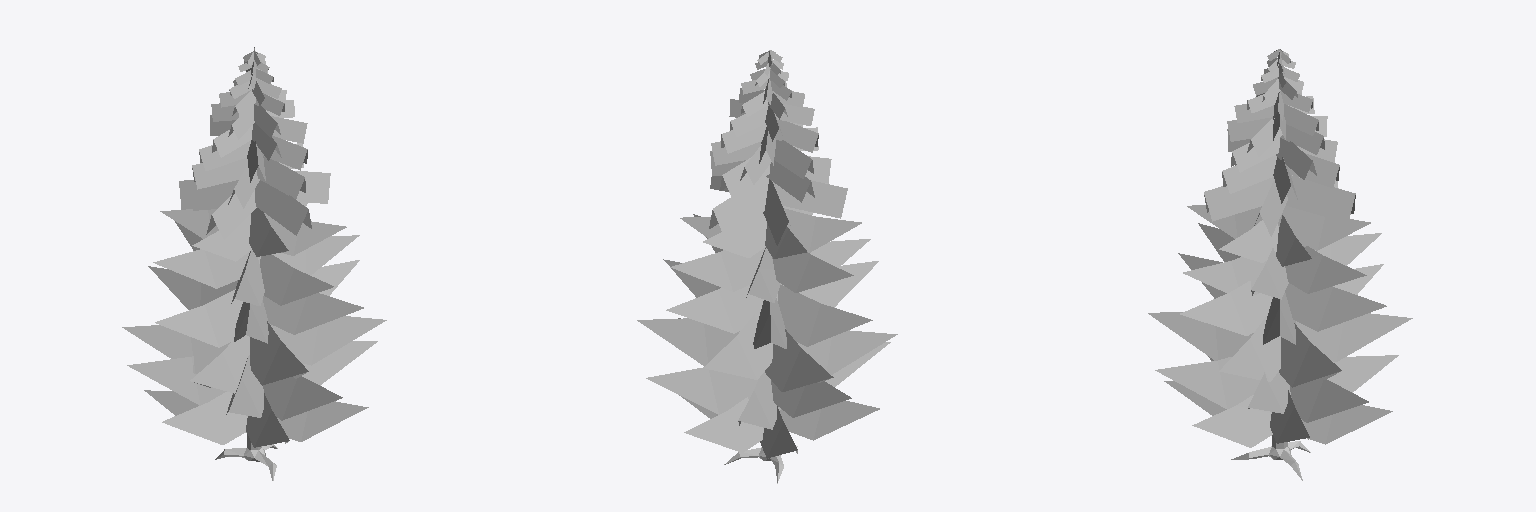
The model's file is tree4.obj.
The picture shows the model from 3 angles: view 1: azimuth 30°, elevation 25°; view 2: azimuth 150°, elevation 25°; view 3: azimuth 270°, elevation 25°; orthographic projection.
Visible parts, largest first — view 1: Spruce; view 2: Spruce; view 3: Spruce.
Boxes of the visible parts, <box> form: Spruce: <box>122,47,386,480</box>; Spruce: <box>637,50,897,483</box>; Spruce: <box>1148,49,1412,480</box>.
Size of the model in its own units: 3.07 by 5.76 by 3.32.